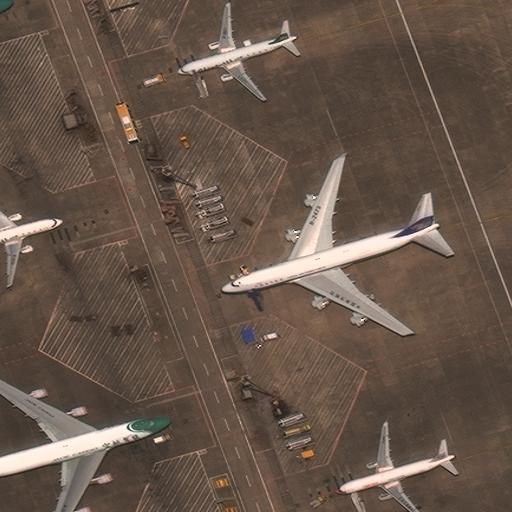Large Civil Transport: (221, 155, 440, 332), (0, 374, 170, 511)
Medium Civil Transport: (177, 0, 297, 99), (334, 422, 456, 511), (0, 197, 63, 288)
